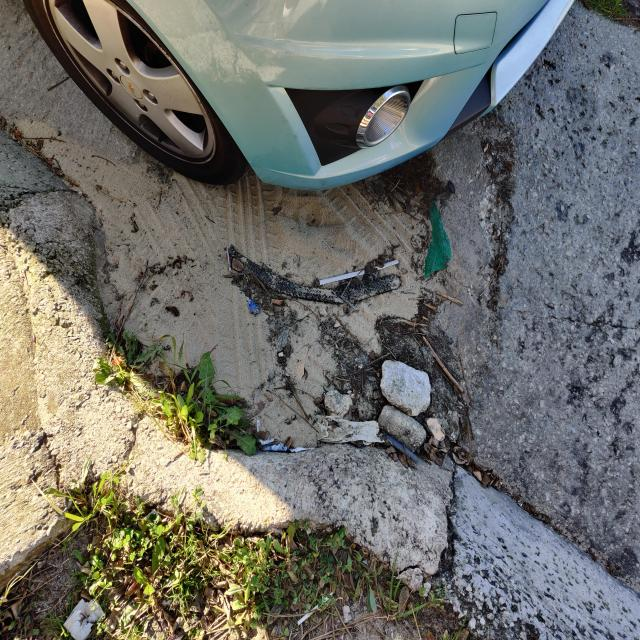litter: (318, 256, 406, 289), (294, 584, 339, 620)
